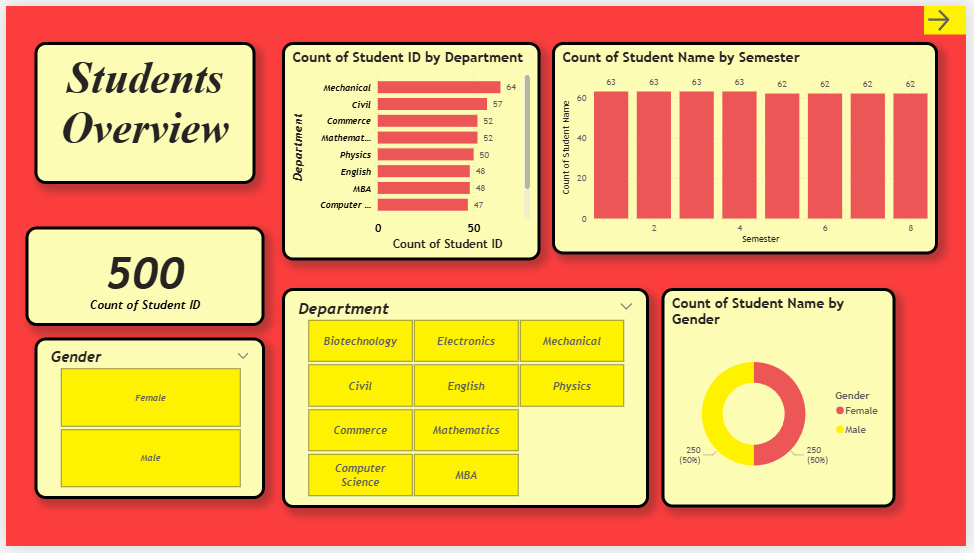

The dashboard page shown, as its layout file describes it:
{"tool":"powerbi","page":{"name":"SO","canvas":[1280,720],"ordinal":0},"visuals":[{"type":"barChart","fields":{"Y":["CountNonNull(Student Academic Performance.Student ID)"],"Category":["Student Feedback Data.Department"]},"box":[367.6,48.6,344.9,291.5],"z":0},{"type":"columnChart","fields":{"Y":["CountNonNull(Student Academic Performance.Student Name)"],"Category":["Student Academic Performance.Semester"]},"box":[727,48.6,514.9,283.4],"z":1000},{"type":"donutChart","fields":{"Category":["Student Academic Performance.Gender"],"Y":["CountNonNull(Student Academic Performance.Student Name)"]},"box":[873.2,375.4,311.8,292.7],"z":2000},{"type":"card","fields":{"Values":["CountNonNull(Fees.Student ID)"]},"box":[25.9,293.1,319,132.8],"z":3000},{"type":"slicer","fields":{"Values":["Student Academic Performance.Gender"]},"box":[37.2,442,307.7,215.4],"z":4000},{"type":"slicer","fields":{"Values":["Student Feedback Data.Department"]},"box":[367.6,375.7,489,293.1],"z":5000},{"type":"textbox","box":[37.2,48.6,294.7,189.4],"z":6000},{"type":"actionButton","box":[1223.2,0,57.3,38.2],"z":7000}]}

Visuals, with their boxes in screenshot pixels (x1, y1, x2, y2), scaled from the page's 1280x720 canvas onto the 974x553 screenshot:
barChart - CountNonNull(Student Academic Performance.Student ID) x Student Feedback Data.Department: (280, 37, 542, 261)
columnChart - CountNonNull(Student Academic Performance.Student Name) x Student Academic Performance.Semester: (553, 37, 945, 255)
donutChart - Student Academic Performance.Gender x CountNonNull(Student Academic Performance.Student Name): (664, 288, 902, 513)
card - CountNonNull(Fees.Student ID): (20, 225, 262, 327)
slicer - Student Academic Performance.Gender: (28, 339, 262, 505)
slicer - Student Feedback Data.Department: (280, 289, 652, 514)
textbox: (28, 37, 253, 183)
actionButton: (931, 0, 973, 29)
